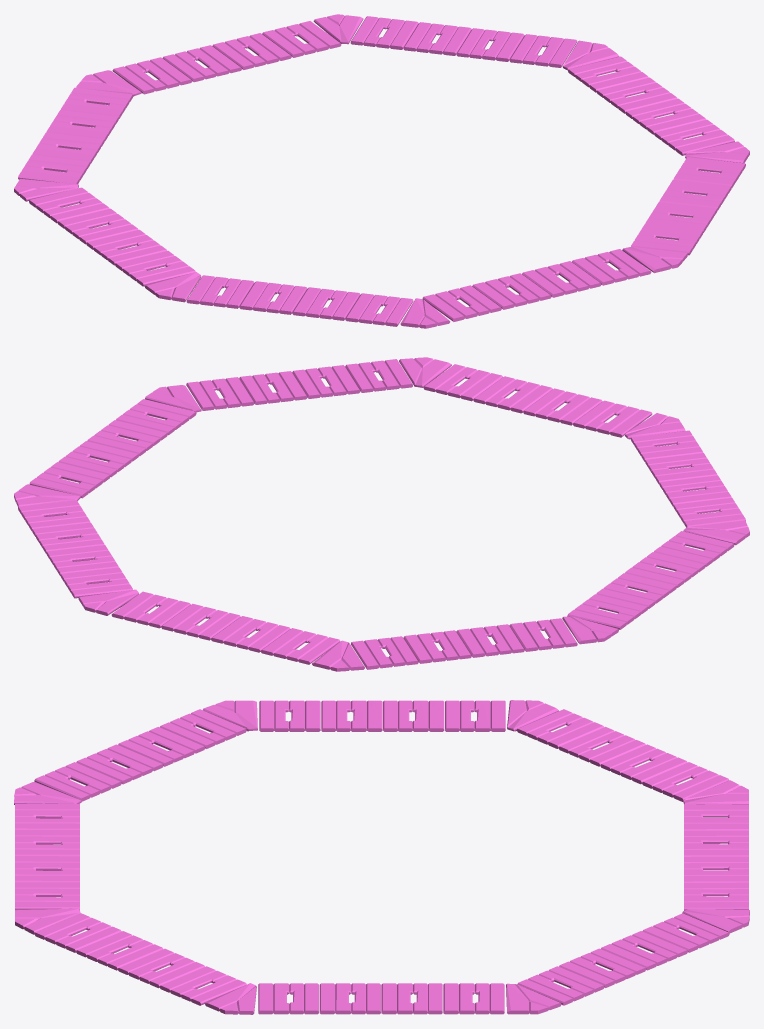
The model's file is SM_Tower_Round_7m_Mach_Shutter_Fantasy.fbx.
3 renders of one model, top to bottom at view 1: azimuth 30°, elevation 25°; view 2: azimuth 150°, elevation 25°; view 3: azimuth 270°, elevation 25°, orthographic. The views are drawn at different scales.
Visible parts, largest first — view 1: SM_Tower_Round_7m_Mach_Shutter_Fantasy; view 2: SM_Tower_Round_7m_Mach_Shutter_Fantasy; view 3: SM_Tower_Round_7m_Mach_Shutter_Fantasy.
Part boxes in pixels (bbox=[...]): SM_Tower_Round_7m_Mach_Shutter_Fantasy: bbox=[14, 14, 749, 328]; SM_Tower_Round_7m_Mach_Shutter_Fantasy: bbox=[14, 357, 749, 671]; SM_Tower_Round_7m_Mach_Shutter_Fantasy: bbox=[14, 700, 749, 1014].
Bounding box in the file's own units: 8.92 × 0.0532 × 8.92.
